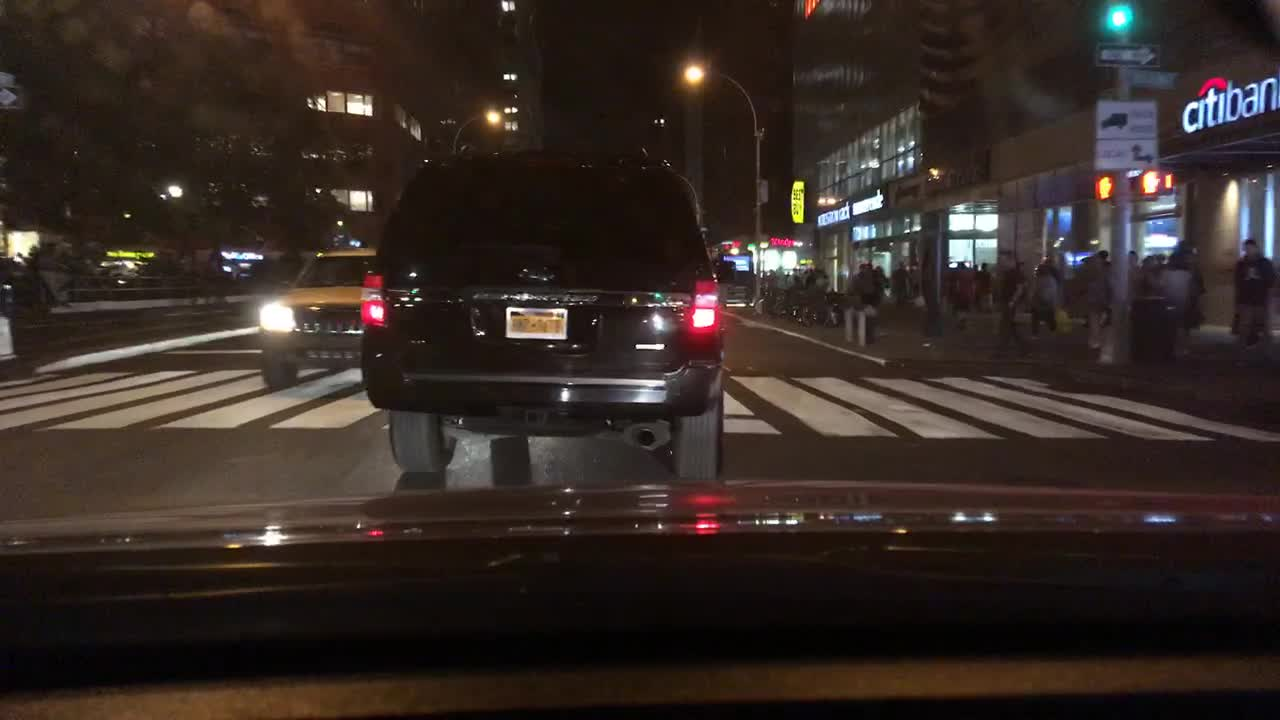bike: (754, 283, 813, 320), (796, 287, 843, 329), (773, 285, 820, 322)
car: (357, 152, 720, 482), (260, 246, 375, 390), (102, 258, 140, 277)
person: (1230, 236, 1275, 373), (989, 245, 1034, 363), (1157, 253, 1193, 359), (1174, 236, 1206, 334), (1075, 253, 1105, 353), (1022, 261, 1059, 337), (948, 260, 977, 331), (860, 256, 883, 345), (1093, 246, 1117, 327), (887, 256, 914, 310), (1125, 246, 1144, 319), (975, 258, 994, 320), (1137, 253, 1159, 297), (847, 265, 867, 297), (805, 266, 820, 287), (1154, 253, 1169, 273), (789, 266, 801, 290), (874, 263, 886, 282)
traffic light: (1105, 0, 1134, 34), (1137, 167, 1167, 196), (1093, 175, 1115, 201)
traffic sign: (1093, 98, 1157, 170), (1095, 42, 1157, 66), (1130, 66, 1176, 89)
